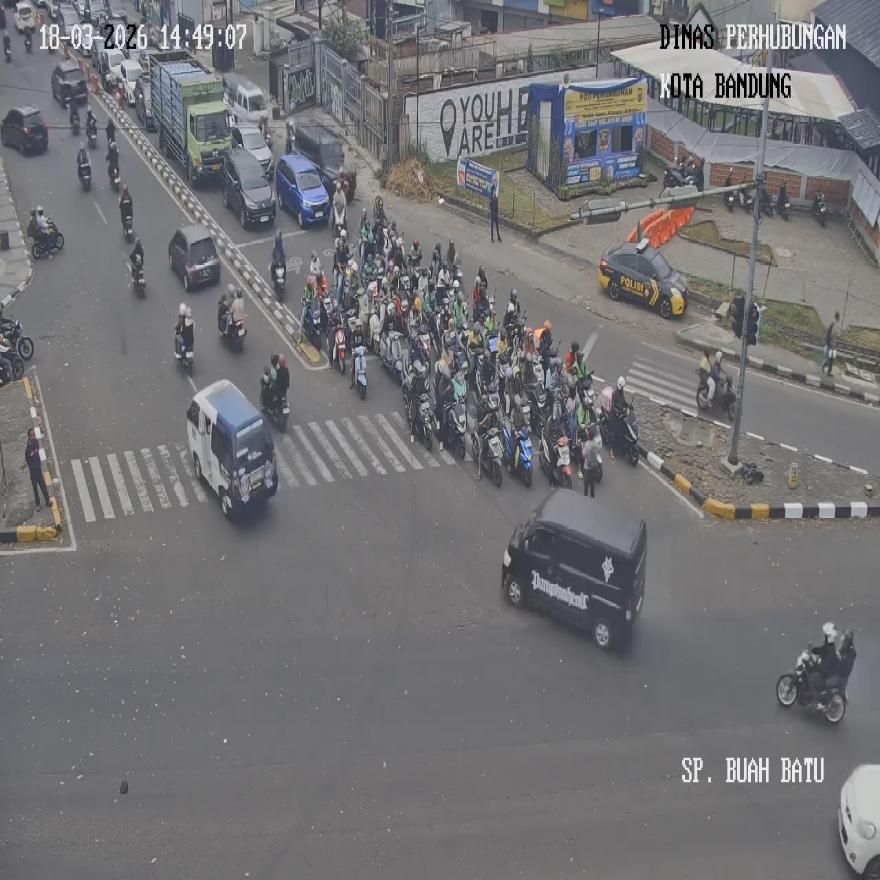Motor: (500, 485, 647, 649), (186, 380, 278, 521), (222, 149, 276, 229)
Truk: (775, 627, 856, 722), (600, 397, 640, 466), (402, 370, 435, 451), (539, 430, 573, 490), (696, 366, 735, 416), (476, 417, 504, 486), (260, 370, 289, 432), (439, 397, 466, 460), (508, 424, 533, 488), (378, 326, 405, 385), (217, 296, 245, 352), (301, 298, 327, 358), (0, 319, 33, 359), (32, 220, 64, 260), (0, 341, 23, 384), (328, 323, 346, 375), (174, 324, 192, 374), (128, 248, 145, 298), (352, 344, 366, 400), (76, 146, 91, 190), (271, 256, 286, 300), (723, 168, 737, 212), (107, 142, 120, 189), (812, 190, 826, 228), (756, 187, 774, 216), (121, 205, 133, 242), (777, 185, 789, 221), (86, 115, 98, 148), (69, 99, 80, 133), (23, 26, 33, 52), (3, 36, 10, 62)
